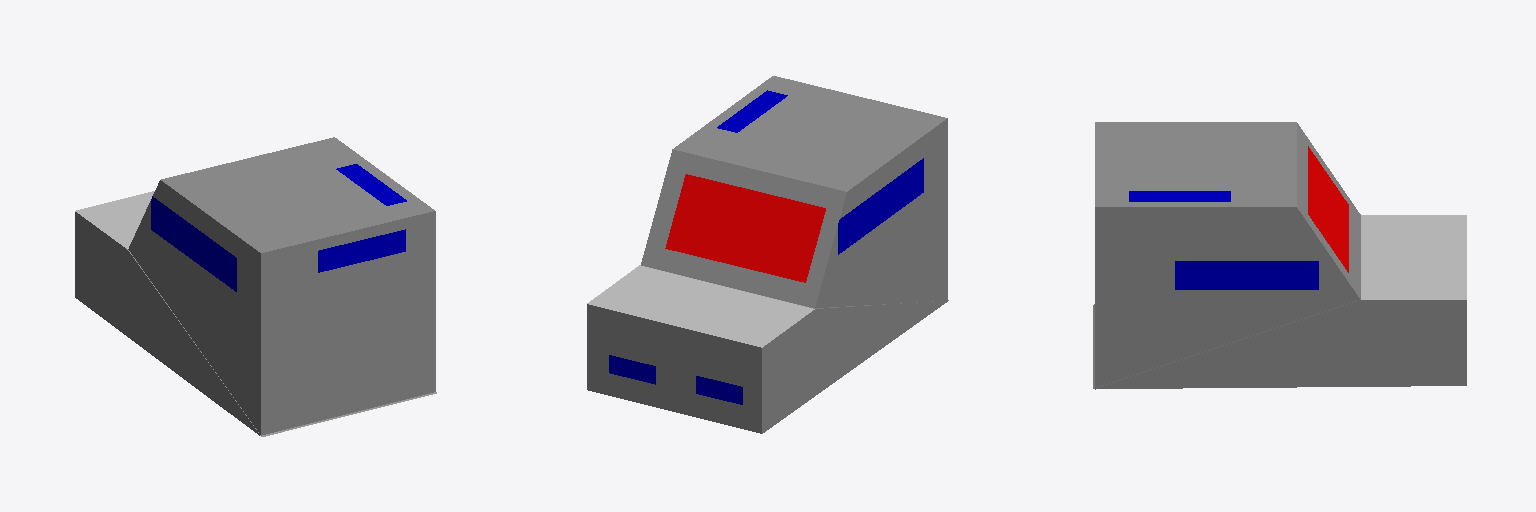
3 views of the same model, side by side, from view 1: azimuth 30°, elevation 25°; view 2: azimuth 150°, elevation 25°; view 3: azimuth 270°, elevation 25° (orthographic).
Parts seen in each view (by area): view 1: cartop, rightside, ungrouped; view 2: cartop, rightside, front, ungrouped; view 3: leftside, cartop, ungrouped.
Part boxes in pixels (bbox=[...]): cartop: bbox=[128, 137, 436, 436]; rightside: bbox=[75, 180, 260, 435]; ungrouped: bbox=[75, 191, 154, 249]; cartop: bbox=[641, 76, 948, 308]; rightside: bbox=[762, 118, 947, 433]; front: bbox=[587, 304, 761, 433]; ungrouped: bbox=[587, 265, 814, 347]; leftside: bbox=[1095, 207, 1466, 389]; cartop: bbox=[1093, 122, 1360, 388]; ungrouped: bbox=[1361, 215, 1466, 299].
Size of the model in its own units: 33.16 by 33.05 by 61.21.
1 materials, 1 textured.